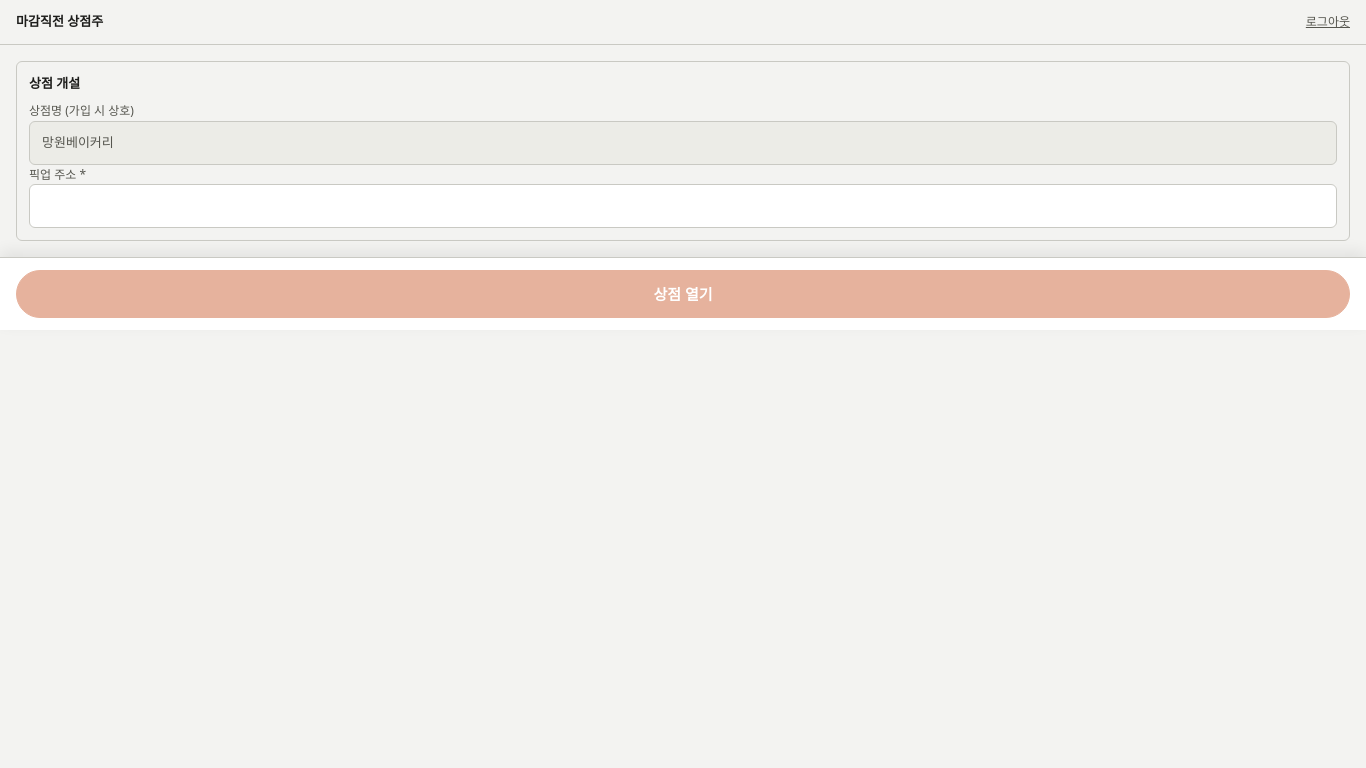
Test: pages/owner-start OwnerStartPage › 어느 경우든 「마감직전 상점주」 로고와 「로그아웃」이 있고, 「로그아웃」은 확인 시트를 연다
Check: the text "마감직전 상점주" is shown, box [16, 12, 103, 32]
Click the button "로그아웃" at x=1328, y=22, box [1306, 13, 1350, 31]
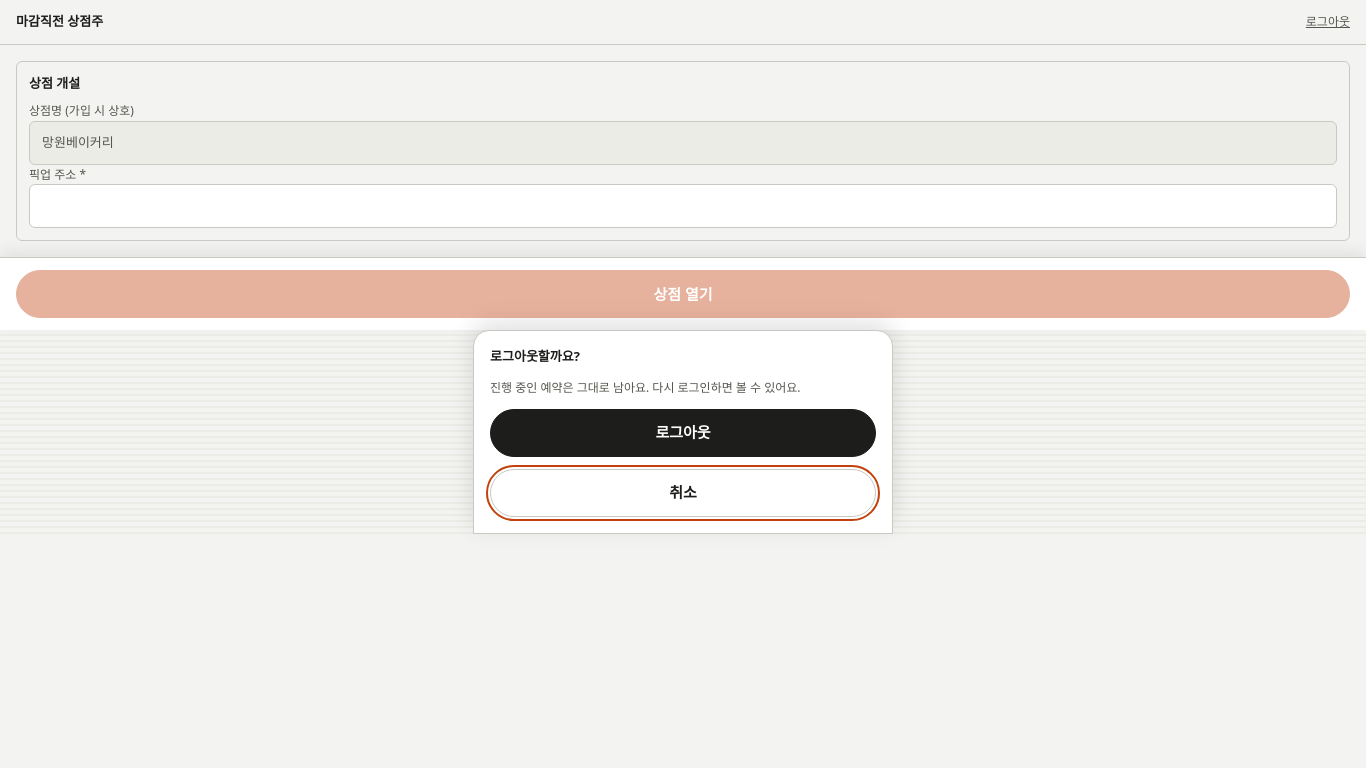
Check: the dialog shows "로그아웃할까요?", box [490, 347, 580, 365]
